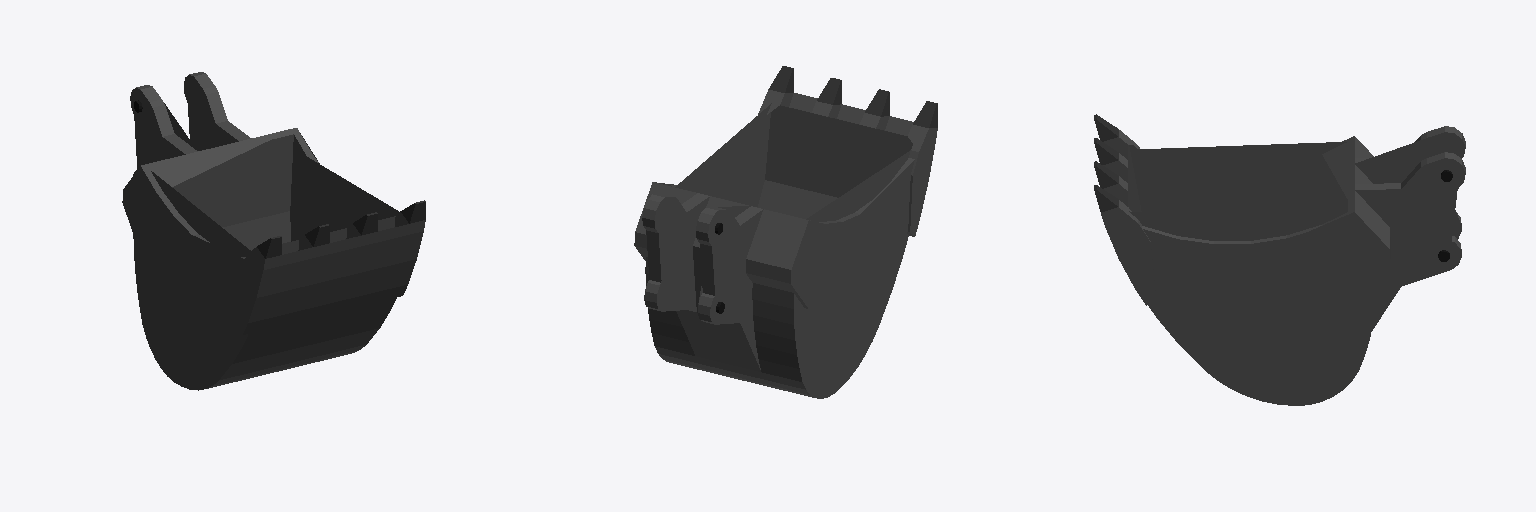
File: ExBucket.obj
3 renders of one model, left to right at view 1: azimuth 30°, elevation 25°; view 2: azimuth 150°, elevation 25°; view 3: azimuth 270°, elevation 25°, orthographic.
Visible parts, largest first — view 1: Mesh1 Group1 Model; view 2: Mesh1 Group1 Model; view 3: Mesh1 Group1 Model.
Part boxes in pixels (x1,y1,x2,y2): Mesh1 Group1 Model: (122,72,425,390); Mesh1 Group1 Model: (634,66,937,398); Mesh1 Group1 Model: (1094,114,1465,405).
Size of the model in its own units: 0.78 by 1.06 by 1.56.